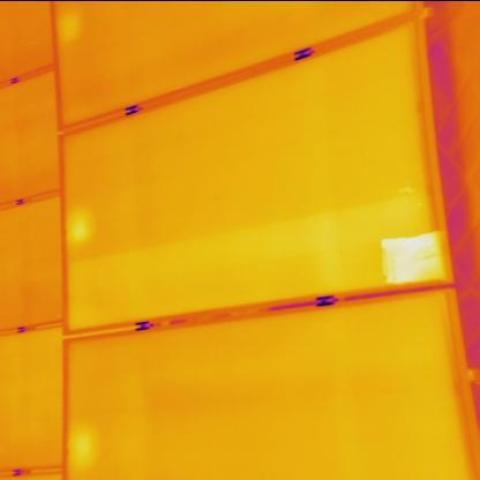fault: (382, 238, 446, 278), (70, 427, 93, 465), (66, 209, 87, 243)
